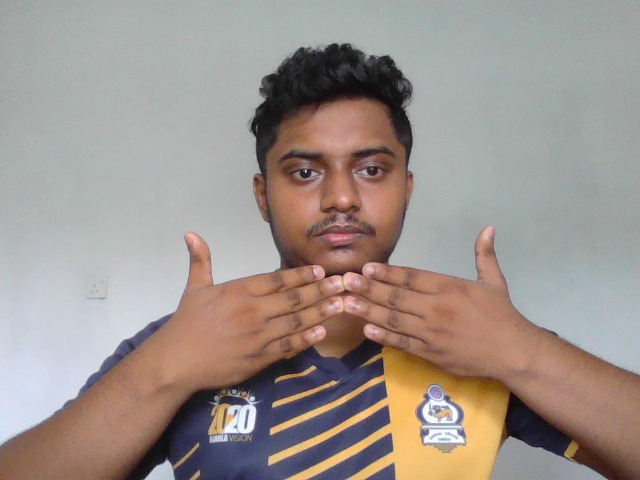Thank You: (176, 225, 512, 391)
